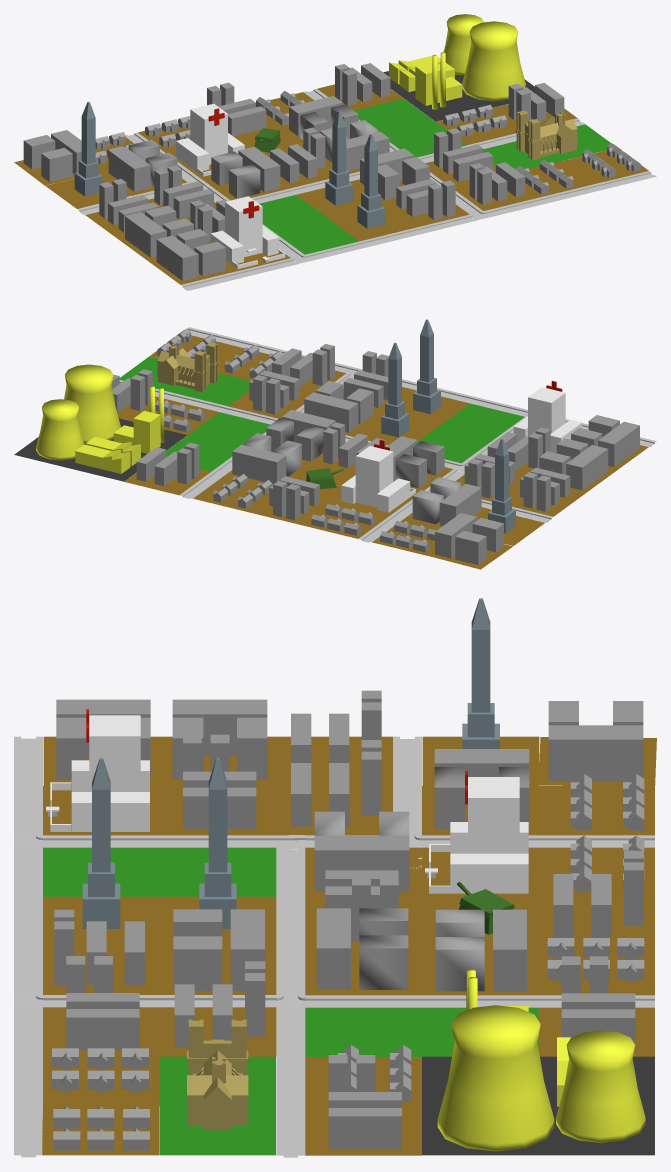
Rendered from nivel2.fbx.
3 renders of one model, top to bottom at view 1: azimuth 30°, elevation 25°; view 2: azimuth 150°, elevation 25°; view 3: azimuth 270°, elevation 25°, orthographic. The views are drawn at different scales.
Parts seen in each view (by area): view 1: Plane.041, Plane.044, Cube.001_Cube.000, Plane.039, Plane.020, Plane.009, Cube.001_Cube.002, Plane.033, Cube_Cube.002, Plane.059, Cube_Cube.003, Plane.022 (+30 smaller); view 2: Plane.041, Plane.044, Cube.001_Cube.002, Plane.059, Plane.039, Plane.024, Plane.033, Plane.032, Plane, Cube_Cube.002, Plane.021, Cube_Cube.003 (+28 smaller); view 3: Plane.041, Plane.044, Cube.001_Cube.002, Cube.001_Cube.000, Plane.043, Plane.039, Plane.024, Plane.034, Plane.059, Plane.023, Plane.046, Plane.033 (+43 smaller).
Part boxes in pixels (x1,y1,x2,y2): Plane.041: (383, 14, 534, 121); Plane.044: (483, 110, 610, 168); Cube.001_Cube.000: (210, 196, 290, 271); Plane.039: (259, 195, 359, 254); Plane.020: (149, 229, 235, 284); Plane.009: (201, 146, 287, 200); Cube.001_Cube.002: (173, 103, 244, 178); Plane.033: (354, 98, 466, 157); Cube_Cube.002: (328, 134, 413, 241); Plane.059: (14, 130, 99, 185); Cube_Cube.003: (296, 110, 382, 217); Plane.022: (383, 179, 469, 227); Plane.041: (14, 364, 187, 481); Plane.044: (119, 342, 249, 406); Cube.001_Cube.002: (335, 439, 417, 515); Plane.059: (426, 513, 512, 569); Plane.039: (417, 403, 524, 463); Plane.024: (225, 433, 311, 485); Plane.033: (166, 412, 270, 471); Plane.032: (124, 442, 210, 495); Plane: (404, 477, 489, 527); Cube_Cube.002: (384, 319, 469, 426); Plane.021: (539, 438, 616, 493); Cube_Cube.003: (352, 342, 437, 445); Plane.041: (422, 969, 654, 1155); Plane.044: (159, 1019, 275, 1155); Cube.001_Cube.002: (422, 771, 538, 896); Cube.001_Cube.000: (43, 709, 159, 835); Plane.043: (305, 908, 421, 995); Plane.039: (43, 847, 276, 896); Plane.024: (422, 909, 538, 995); Plane.034: (305, 1055, 421, 1155); Plane.059: (538, 701, 656, 786); Plane.023: (159, 909, 276, 994); Plane.046: (43, 956, 159, 1056); Plane.033: (305, 1007, 538, 1056).
Size of the model in its own units: 3400 by 628 by 2206.
